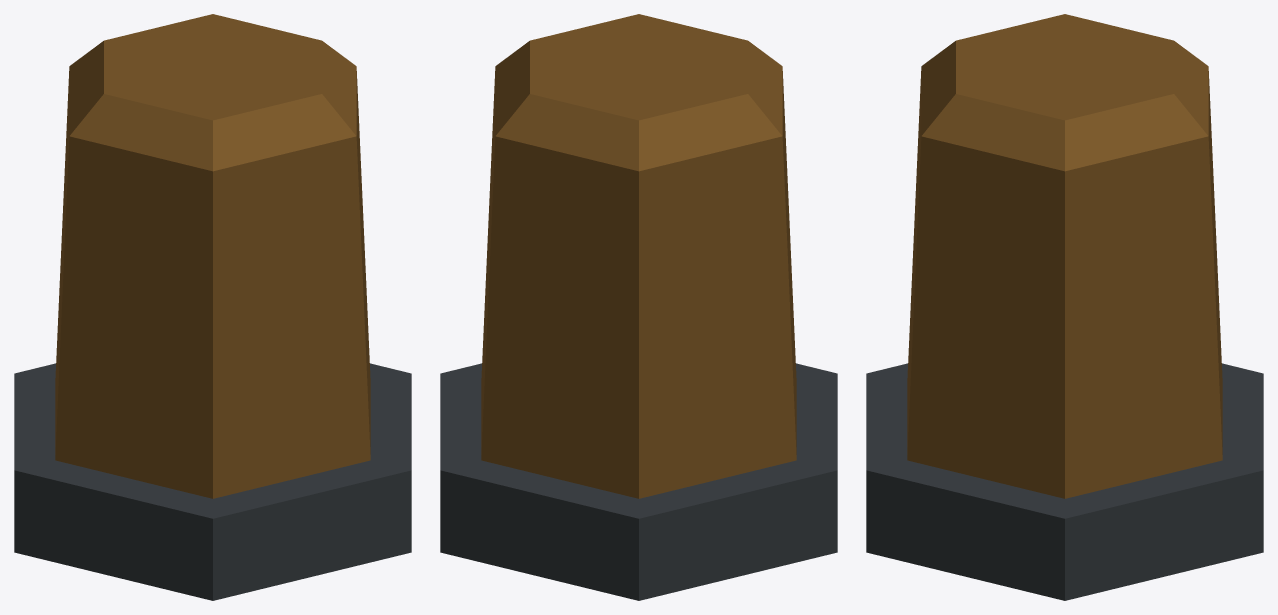
The model's file is SM_Veh_Pickup_Light_01.fbx.
The picture shows the model from 3 angles, left to right: view 1: azimuth 30°, elevation 25°; view 2: azimuth 150°, elevation 25°; view 3: azimuth 270°, elevation 25°; orthographic projection.
Visible parts, largest first — view 1: SM_Veh_Pickup_Light_01; view 2: SM_Veh_Pickup_Light_01; view 3: SM_Veh_Pickup_Light_01.
Part boxes in pixels (box(x1,y1,x2,y2)): SM_Veh_Pickup_Light_01: box(14, 14, 411, 600); SM_Veh_Pickup_Light_01: box(440, 14, 837, 600); SM_Veh_Pickup_Light_01: box(866, 14, 1263, 600).
Bounding box in the file's own units: 23.09 × 24.28 × 19.99.
